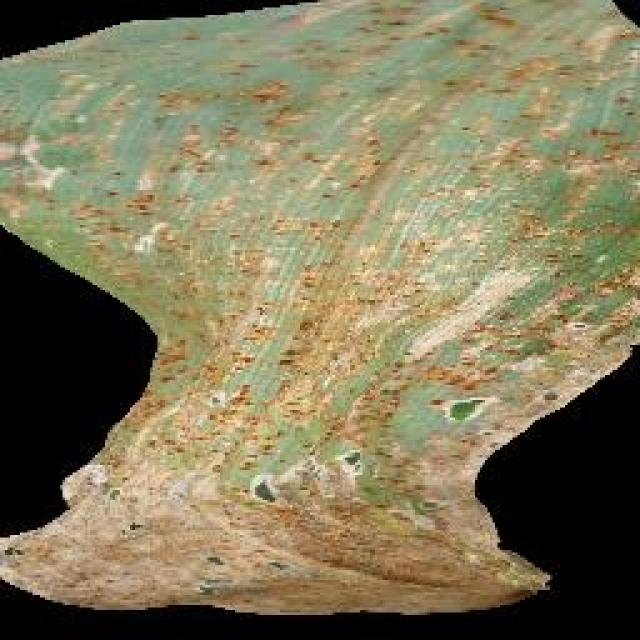Corn Common Rust: (107, 100, 443, 522)
